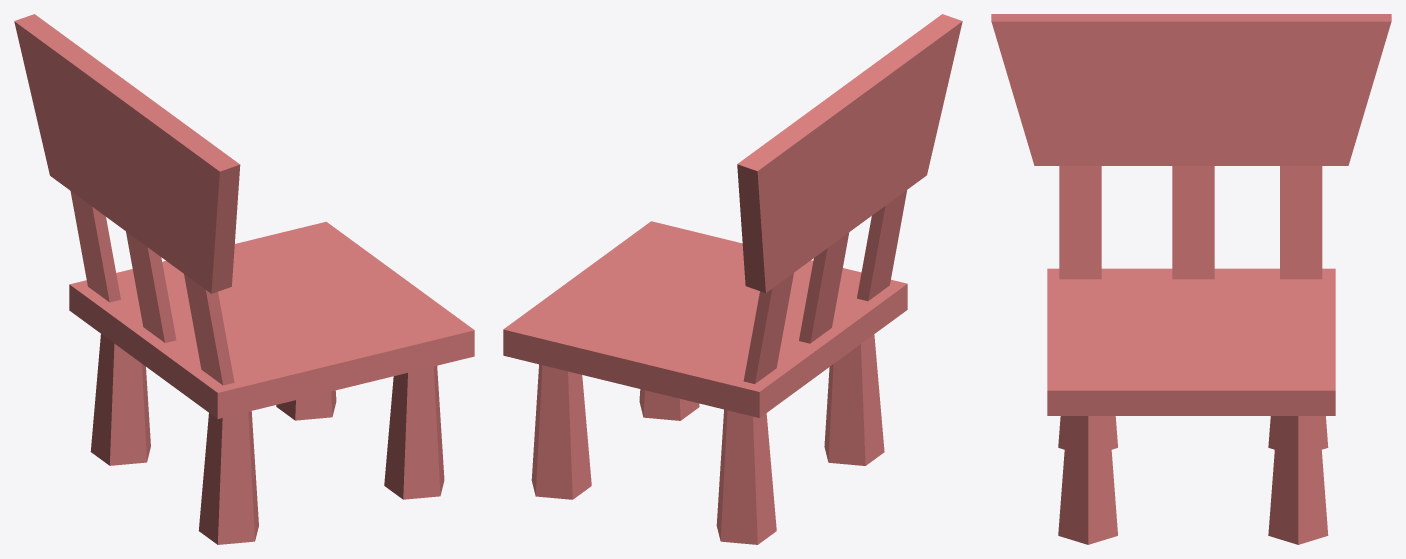
File: RedKidChair.fbx
3 renders of one model, left to right at view 1: azimuth 30°, elevation 25°; view 2: azimuth 150°, elevation 25°; view 3: azimuth 270°, elevation 25°, orthographic. The views are drawn at different scales.
Visible parts, largest first — view 1: pCube12; view 2: pCube12; view 3: pCube12.
Boxes of the visible parts, x1,y1,x2,y2 form: pCube12: [14, 14, 474, 544]; pCube12: [503, 14, 962, 544]; pCube12: [991, 14, 1391, 544].
Bounding box in the file's own units: 1.42 × 1.99 × 1.79.
